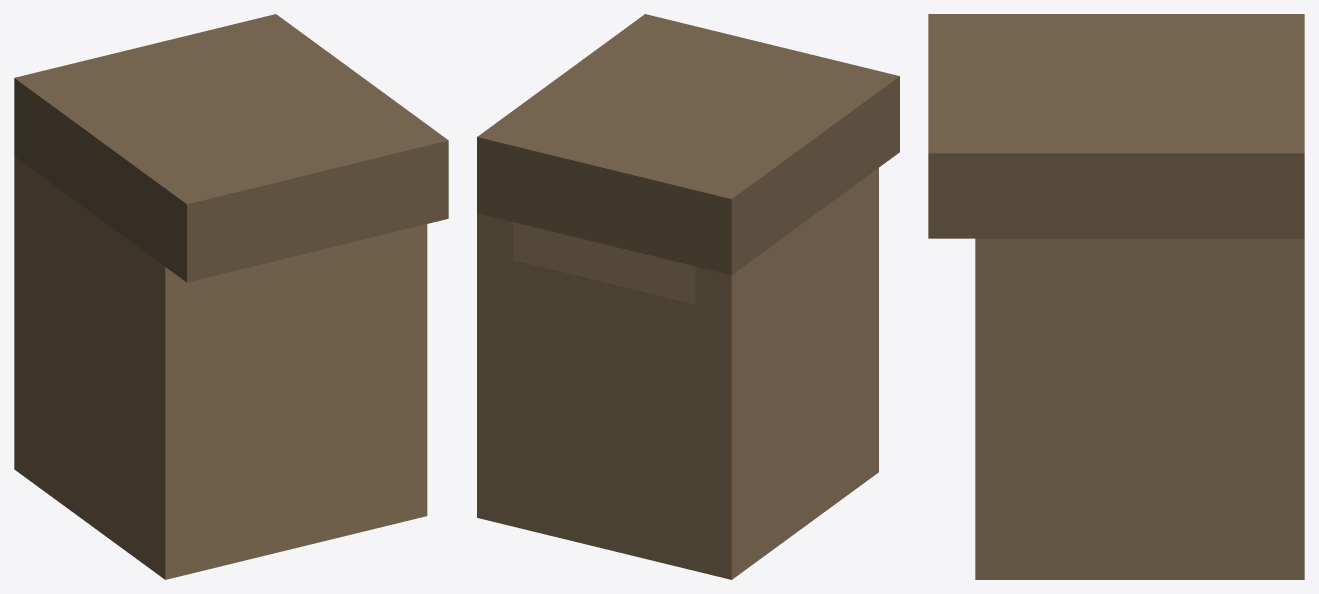
Rendered from reloj_pie_01.glb.
The picture shows the model from 3 angles, left to right: view 1: azimuth 30°, elevation 25°; view 2: azimuth 150°, elevation 25°; view 3: azimuth 270°, elevation 25°; orthographic projection. The views are drawn at different scales.
Visible parts, largest first — view 1: reloj_pie; view 2: reloj_pie; view 3: reloj_pie.
Boxes of the visible parts, <box> form: reloj_pie: <box>14,14,448,579</box>; reloj_pie: <box>477,14,899,579</box>; reloj_pie: <box>928,14,1304,579</box>.
Size of the model in its own units: 0.5 by 0.7143 by 0.5714.
